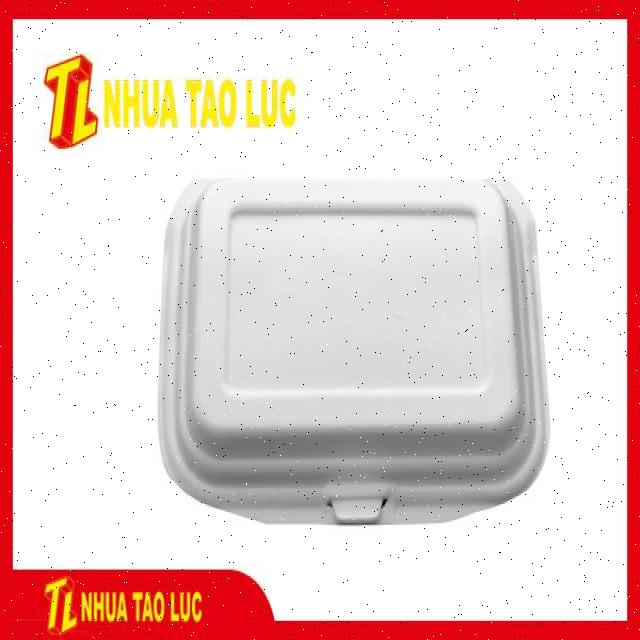styrofoam: (156, 173, 550, 526)
